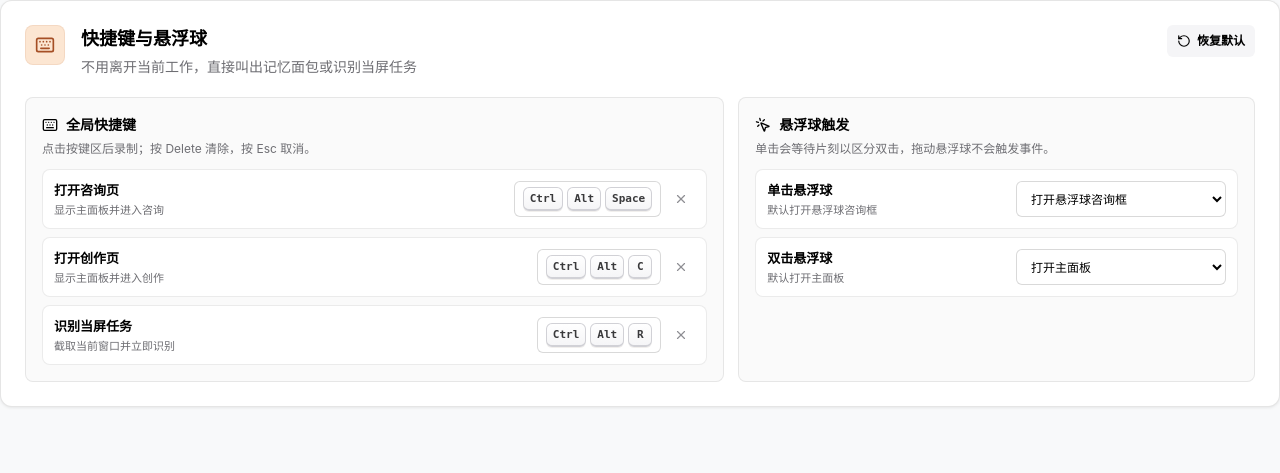
Test: InteractionSettings › 阻止两个动作使用相同快捷键
Step 1. Click the button with aria-label "打开咨询页快捷键" → [587, 199], box [514,181,661,217]
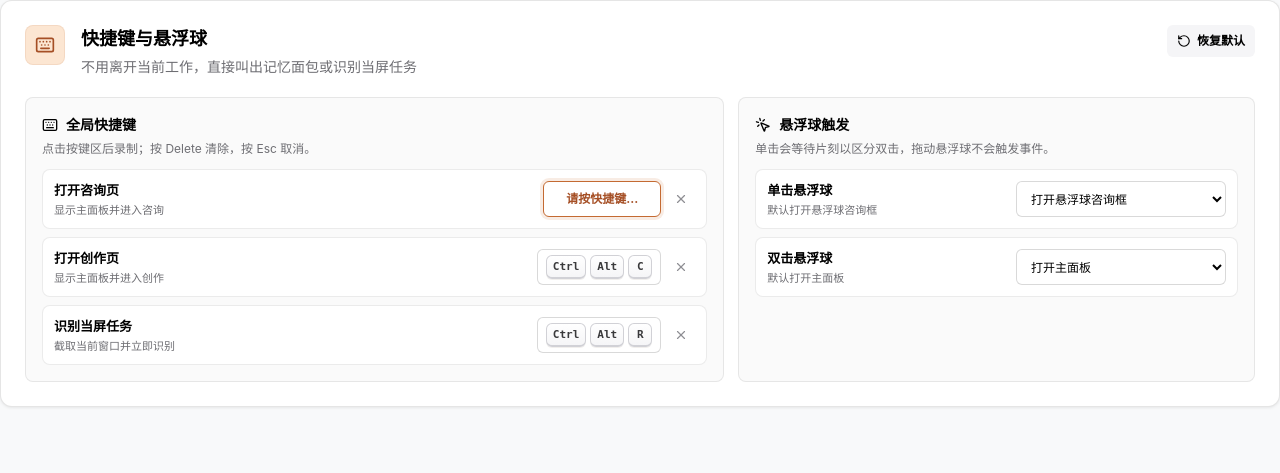
Step 2. Press c in the button with aria-label "打开咨询页快捷键", box [543,181,661,217]
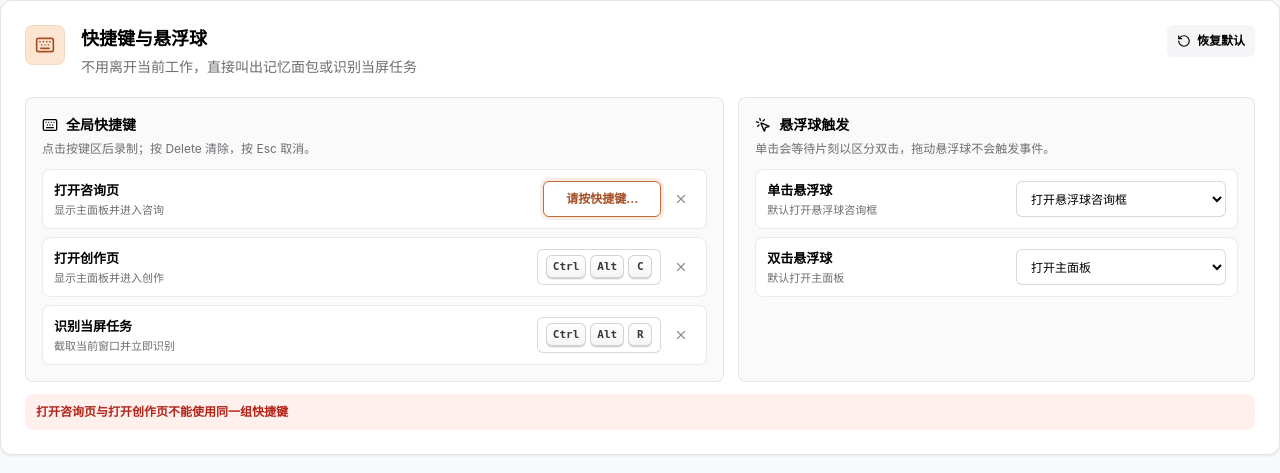
Check: the message reads "打开咨询页与打开创作页不能使用同一组快捷键", box [36,404,288,419]
